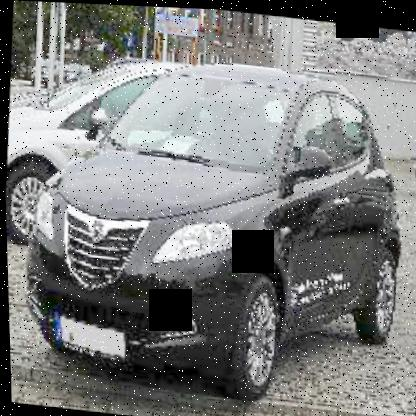not_emergency: (5, 38, 414, 413)
